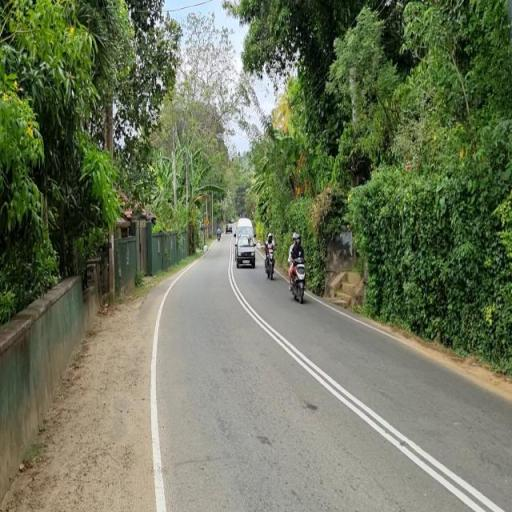double_white_line: (229, 254, 507, 512)
